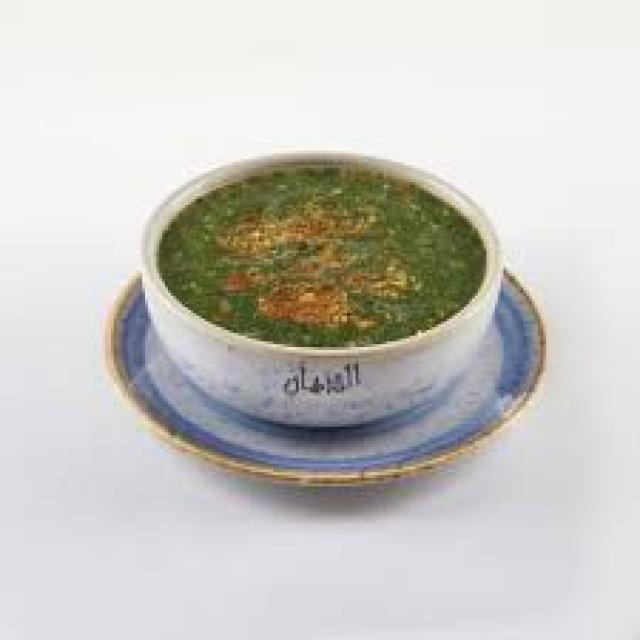Molokhya: (128, 141, 527, 437)
